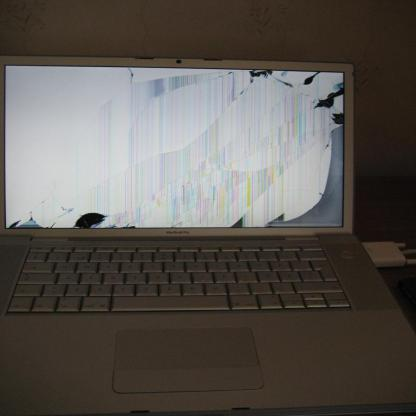board: (10, 48, 402, 398)
